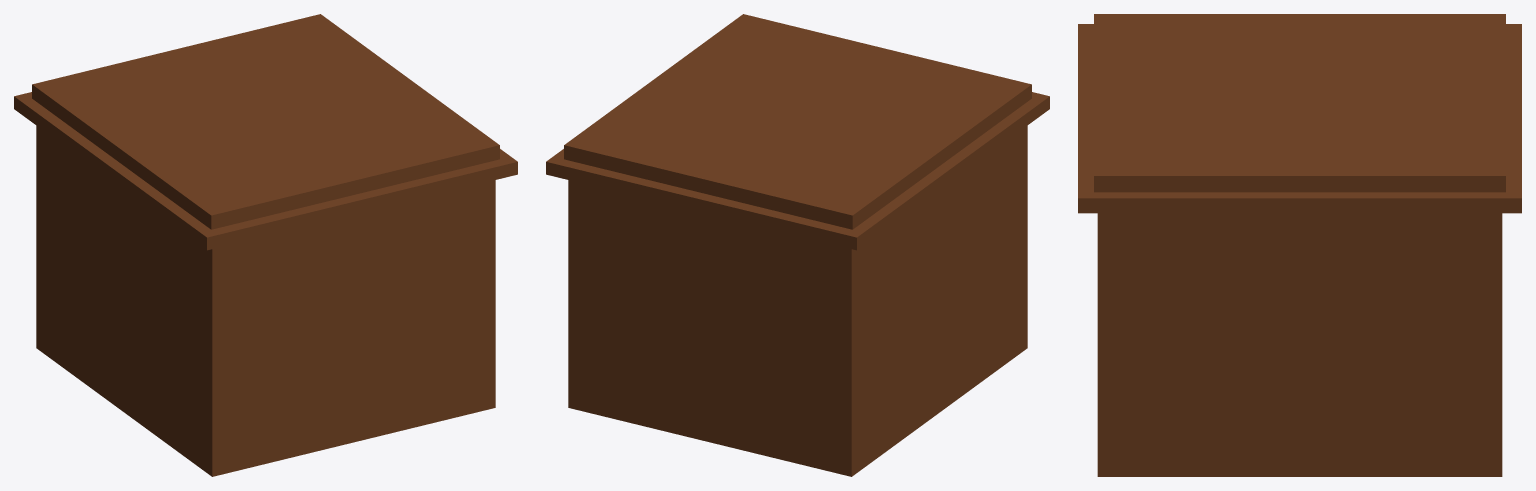
3 renders of one model, left to right at view 1: azimuth 30°, elevation 25°; view 2: azimuth 150°, elevation 25°; view 3: azimuth 270°, elevation 25°, orthographic. The views are drawn at different scales.
Parts seen in each view (by area): view 1: Box020; view 2: Box020; view 3: Box020.
Part boxes in pixels (bbox=[...]): Box020: bbox=[14, 14, 517, 476]; Box020: bbox=[546, 14, 1049, 476]; Box020: bbox=[1078, 14, 1521, 476].
Size of the model in its own units: 63.73 by 51.56 by 68.55.
